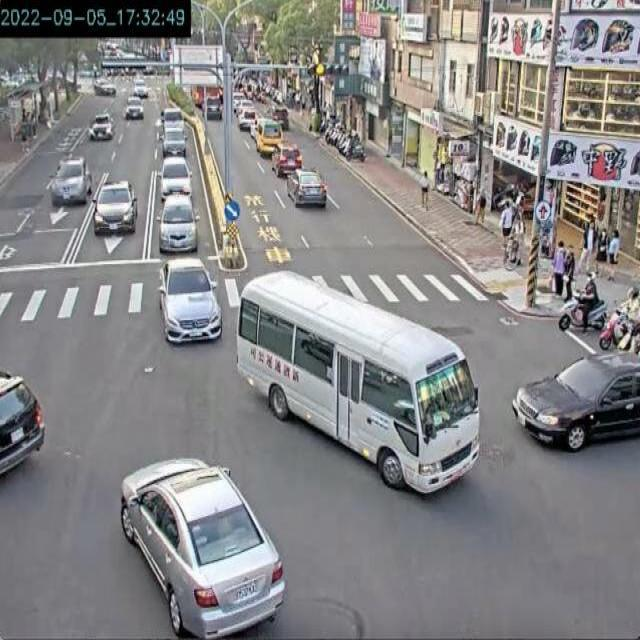Bus: (234, 269, 481, 495)
Car: (119, 456, 286, 639), (511, 350, 639, 452), (156, 256, 222, 344), (0, 369, 45, 480)
